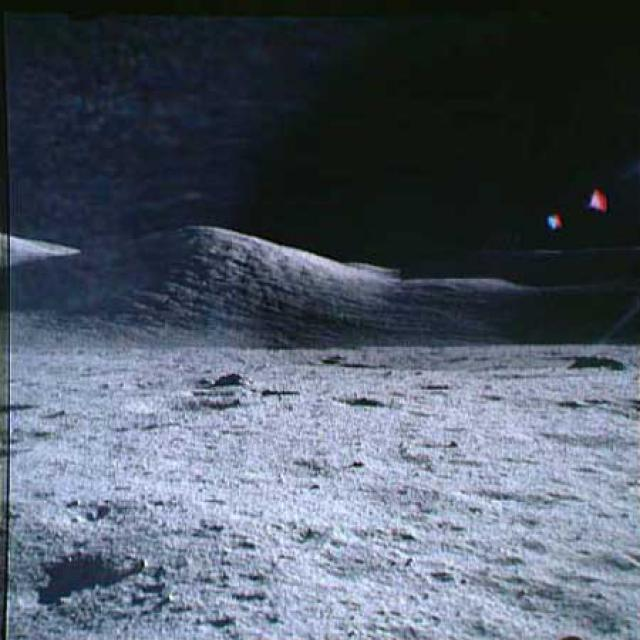crater: (3, 548, 141, 609), (118, 391, 242, 418), (333, 393, 393, 411)
